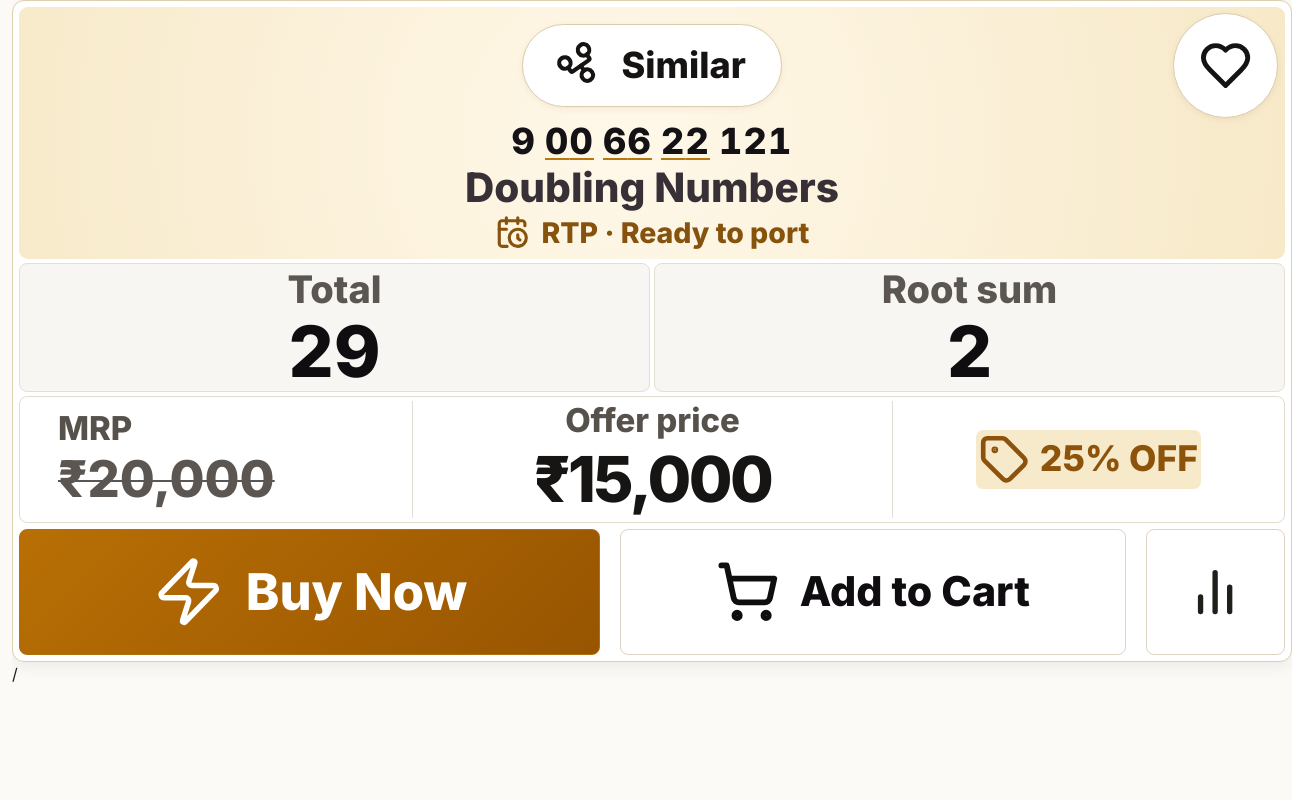
Test case: NumberCard automatic category badges › shows one primary category, highlights its evidence groups, and navigates by slug
This screenshot has width=1292, height=800.
Expected: the number of buttons "Doubling Numbers" is 1, [465, 164, 839, 213]
Expected: the element with class "reference-card__metric" reads "Total 29", [19, 263, 650, 392]
Hover over the button named "Add to compare": (1216, 592) [1146, 529, 1285, 655]
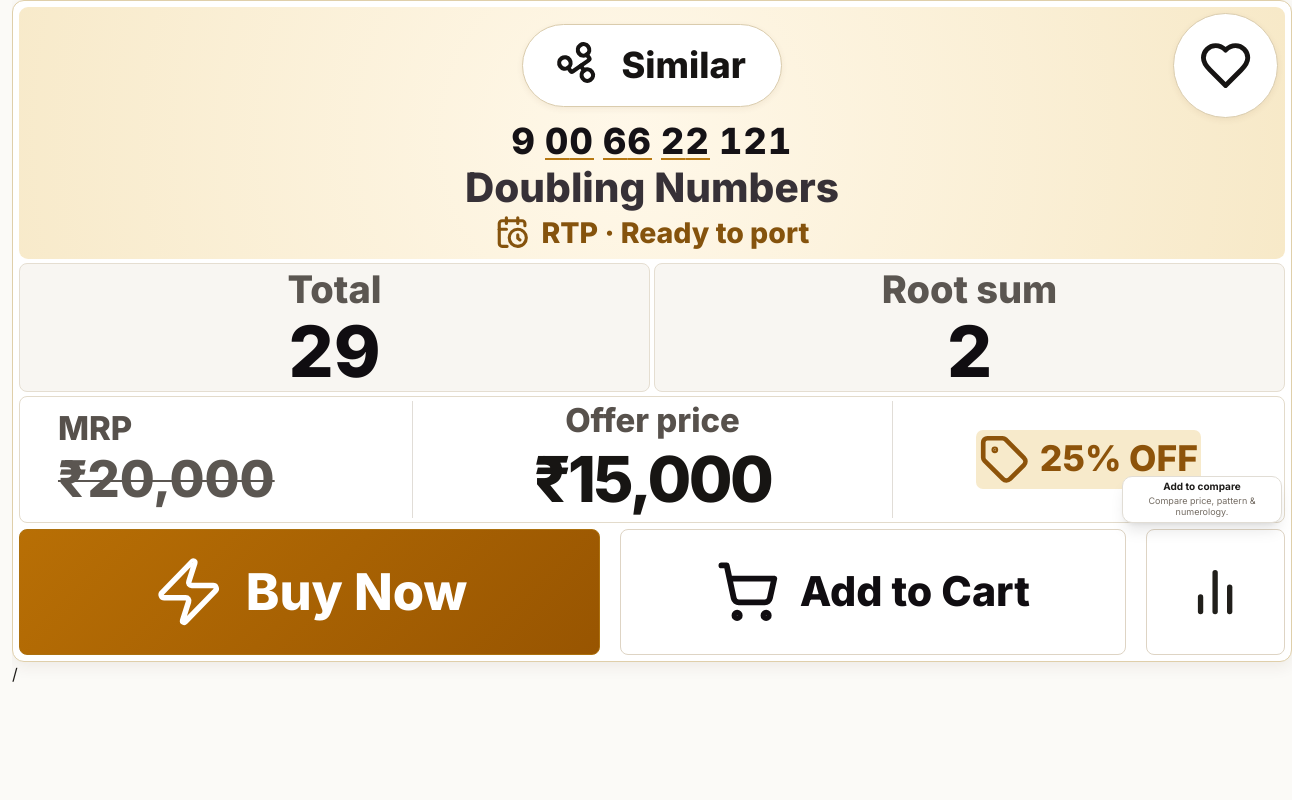
Move the pointer off the button named "Add to compare", box [1146, 529, 1285, 655]
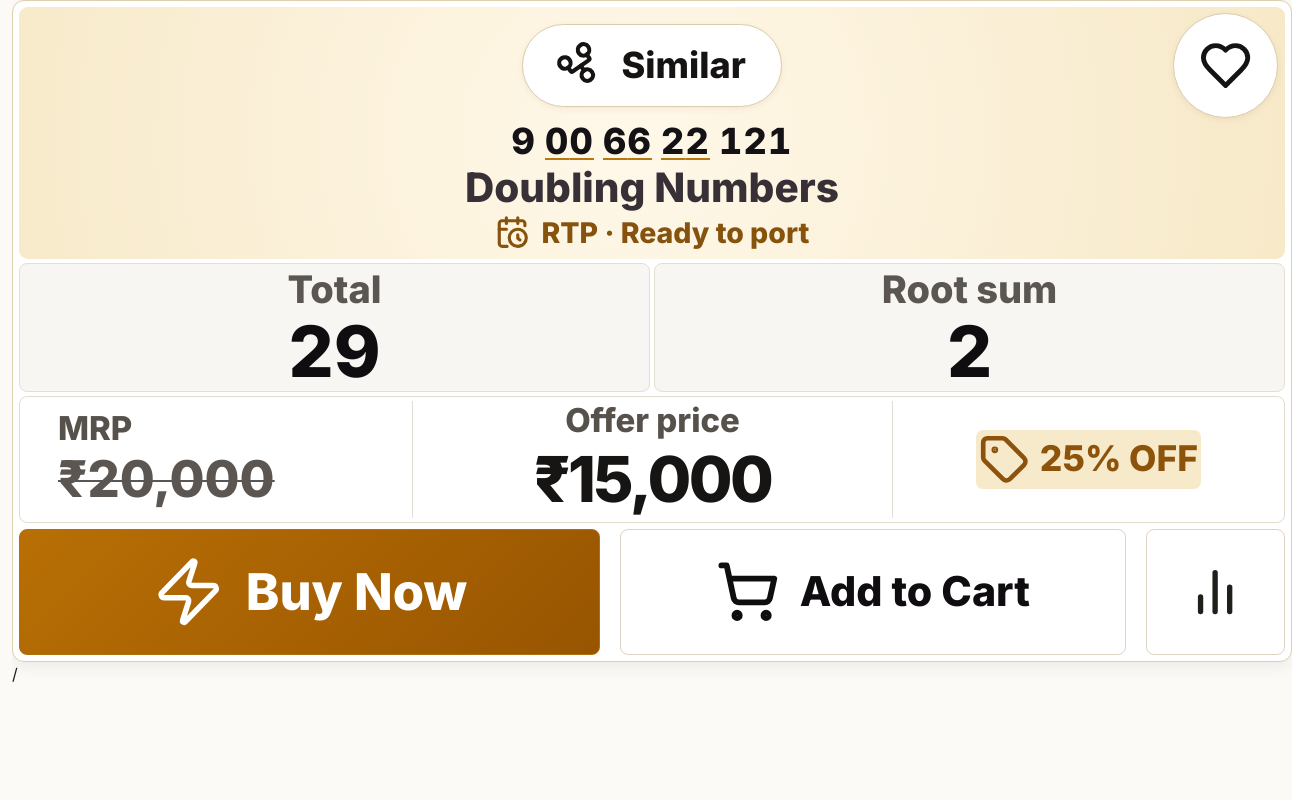
Expected: the button with class "reference-card__buy" reads "Buy Now", [19, 529, 600, 655]
Expected: the picture named "VIP number, digits 9 0 0 6 6 2 2 1 2 1. Category: Doubling Numbers. Matching digits: 00, 66, 22." is shown, [512, 119, 792, 163]
Click the button with aria-label "find numbers similar to 90066 22121": (652, 66) [522, 24, 782, 107]
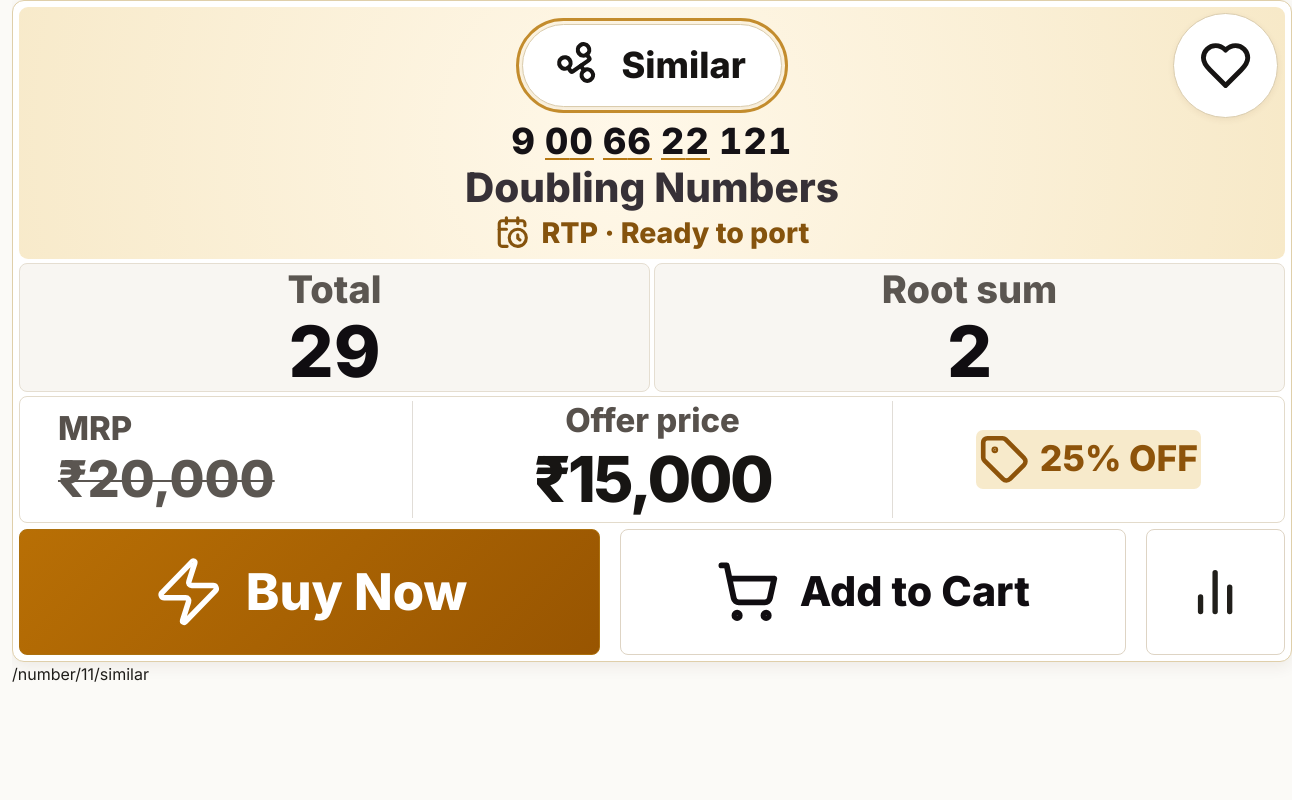
Expected: the text named "Current location" reads "/number/11/similar", [12, 664, 149, 684]
Click the button "Doubling Numbers": (652, 189) [465, 164, 839, 213]
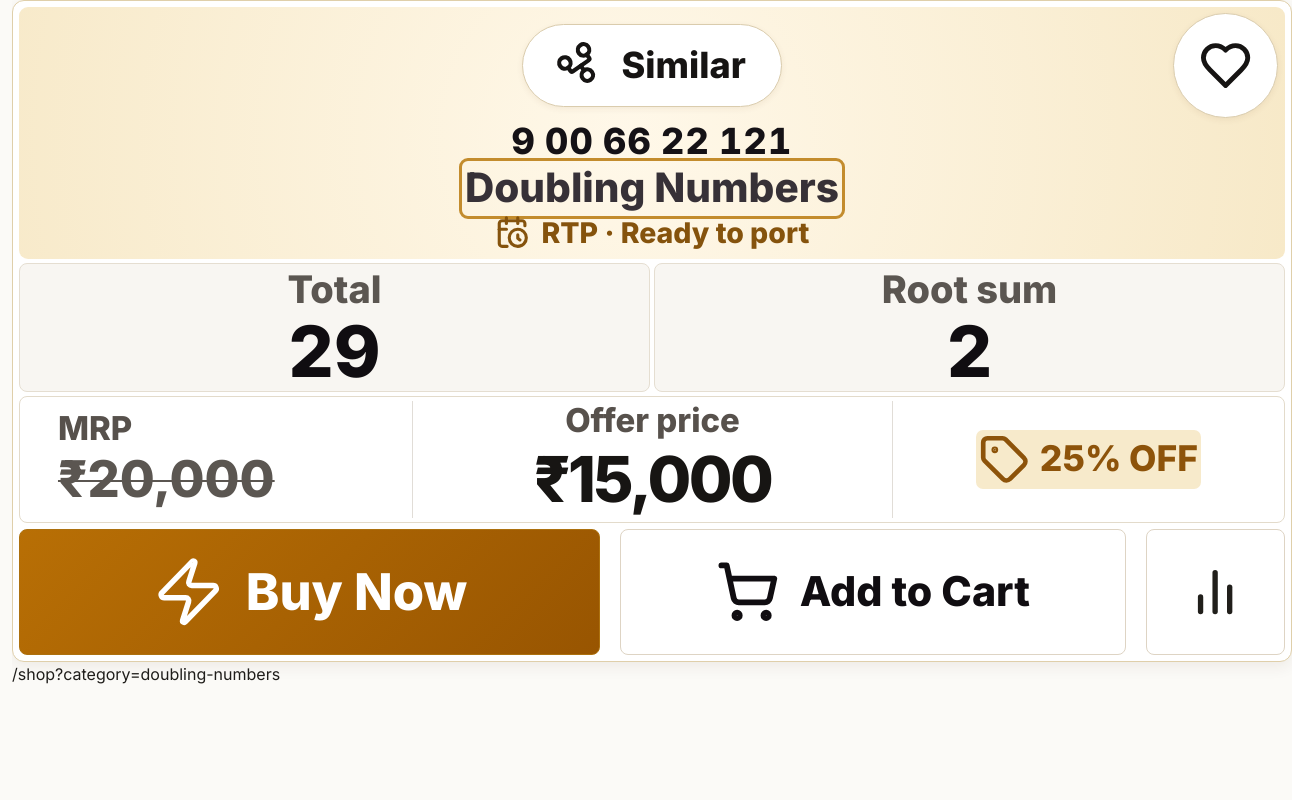
Expected: the text named "Current location" reads "/shop?category=doubling-numbers", [12, 664, 280, 684]
